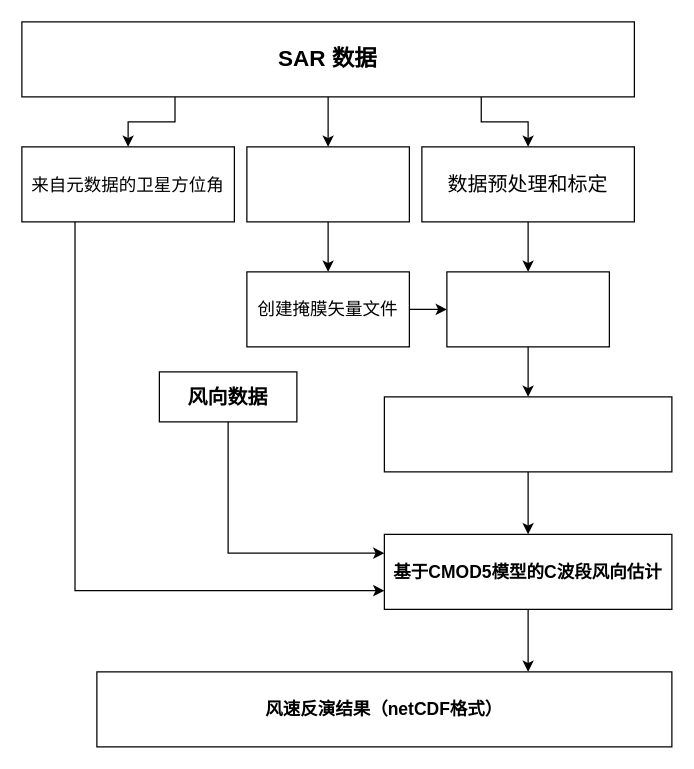
The diagram is 694 pixels wide and 769 high, and some of its shapes have lost their labels. The shapes that lost their labels are listed below. From the top down, each one's centre as x and y in pixels, then its label:
(327,184): 目标检测
(527,309): 导入掩膜矢量文件
(527,434): 多视像素平均&转换为netCDF格式
